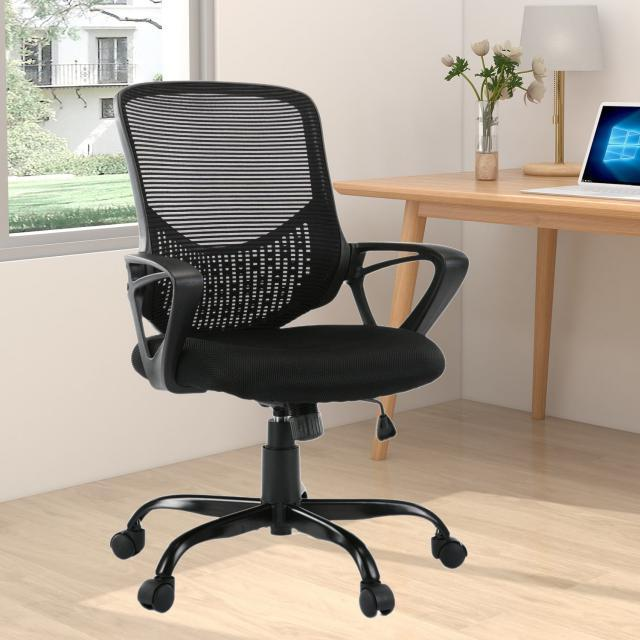chair: (116, 83, 470, 493)
